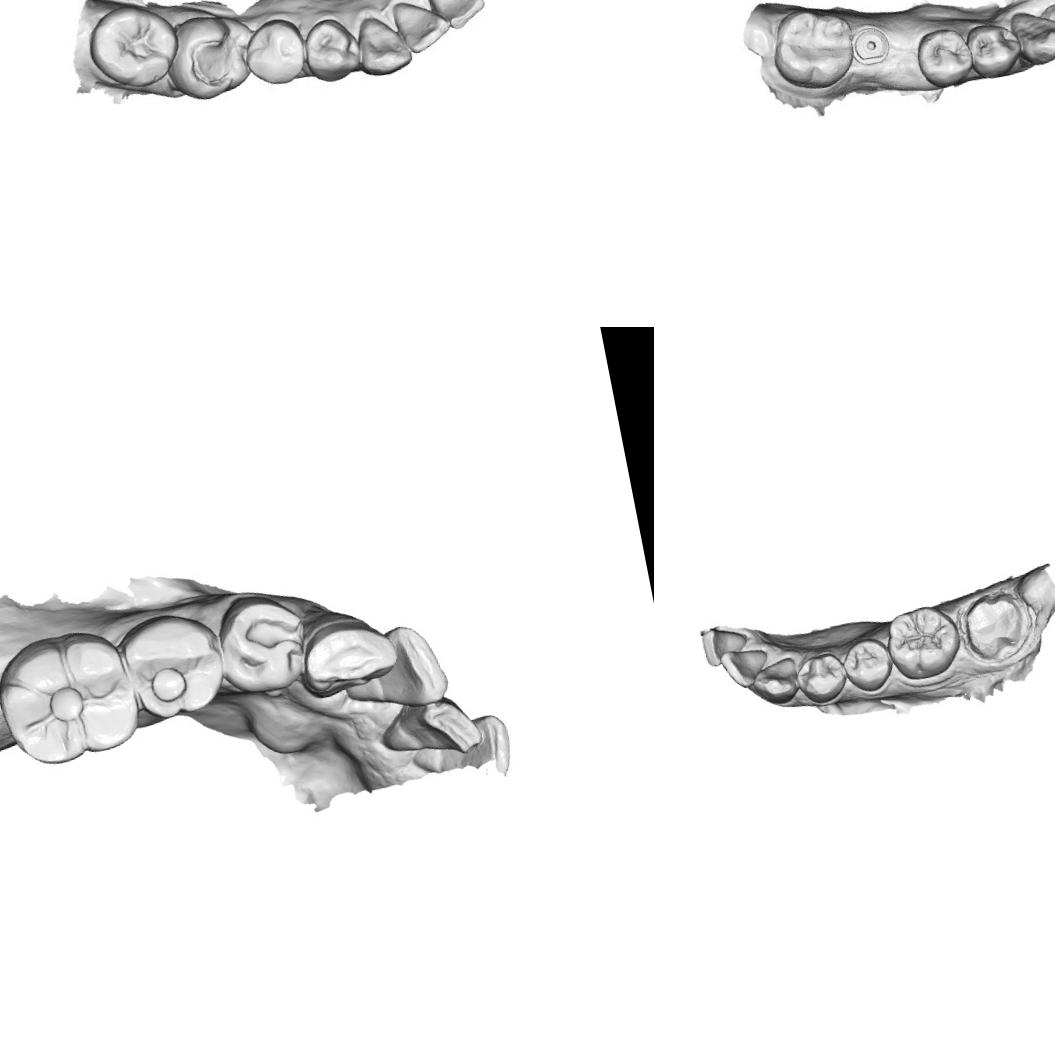canine: (290, 594, 405, 702), (353, 7, 410, 74), (1007, 0, 1055, 70), (748, 654, 804, 708)
crown: (952, 582, 1040, 668)
implant: (848, 20, 896, 68)
incisor: (332, 616, 453, 722), (374, 685, 488, 771), (393, 0, 453, 56), (716, 642, 774, 692), (698, 620, 751, 668), (426, 0, 484, 30)
molar: (0, 620, 147, 774), (764, 2, 860, 96), (83, 0, 180, 88), (169, 8, 258, 102), (880, 598, 969, 686)
premolar: (116, 602, 235, 726), (210, 582, 316, 700), (238, 12, 311, 87), (296, 14, 366, 86), (910, 21, 979, 92), (961, 15, 1026, 80), (836, 632, 896, 697), (790, 646, 851, 708)
